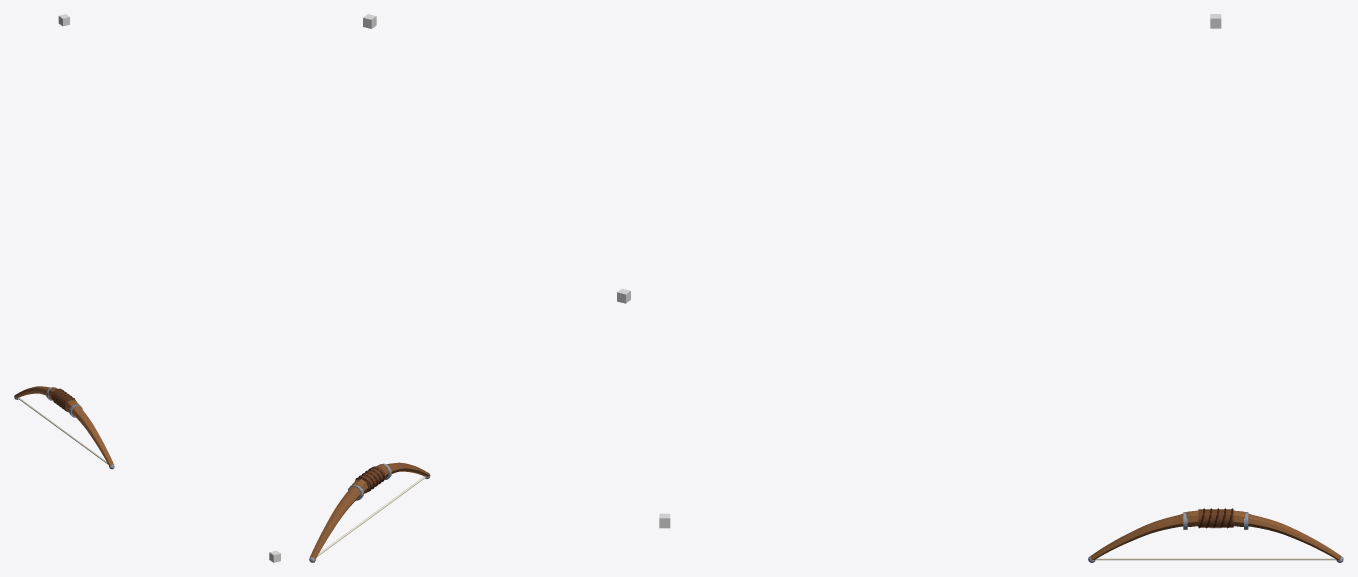
The model's file is Bow.fbx.
3 renders of one model, left to right at view 1: azimuth 30°, elevation 25°; view 2: azimuth 150°, elevation 25°; view 3: azimuth 270°, elevation 25°, orthographic. The views are drawn at different scales.
Visible parts, largest first — view 1: Body; view 2: Body; view 3: Body.
Part boxes in pixels (<box>): Body: <box>14,386,114,469</box>; Body: <box>309,462,430,562</box>; Body: <box>1088,508,1343,562</box>.
Bounding box in the file's own units: 0.384 × 10.94 × 12.42.
1 material, 1 textured.
